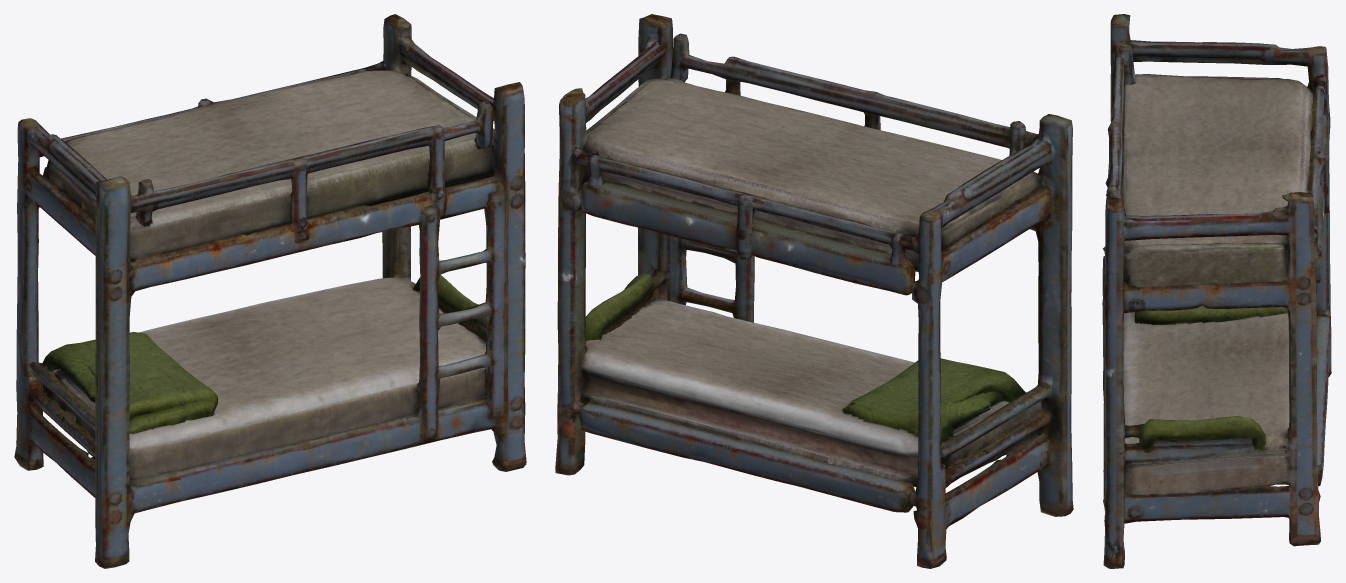
File: raw.glb
3 views of the same model, side by side, from view 1: azimuth 30°, elevation 25°; view 2: azimuth 150°, elevation 25°; view 3: azimuth 270°, elevation 25° (orthographic). The views are drawn at different scales.
Size of the model in its own units: 0.993 by 0.861 by 0.4884.
1 material, 1 textured.
